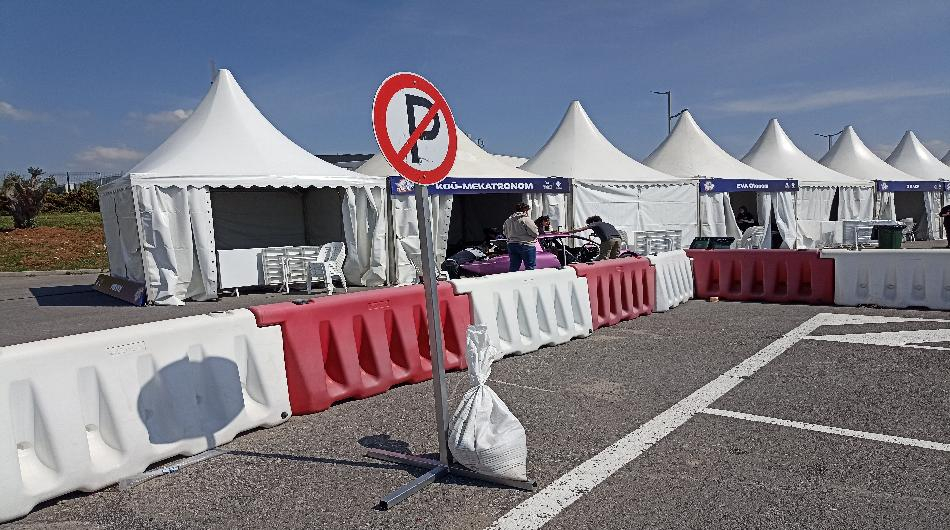park_yapilmaz_3: (366, 75, 459, 190)
